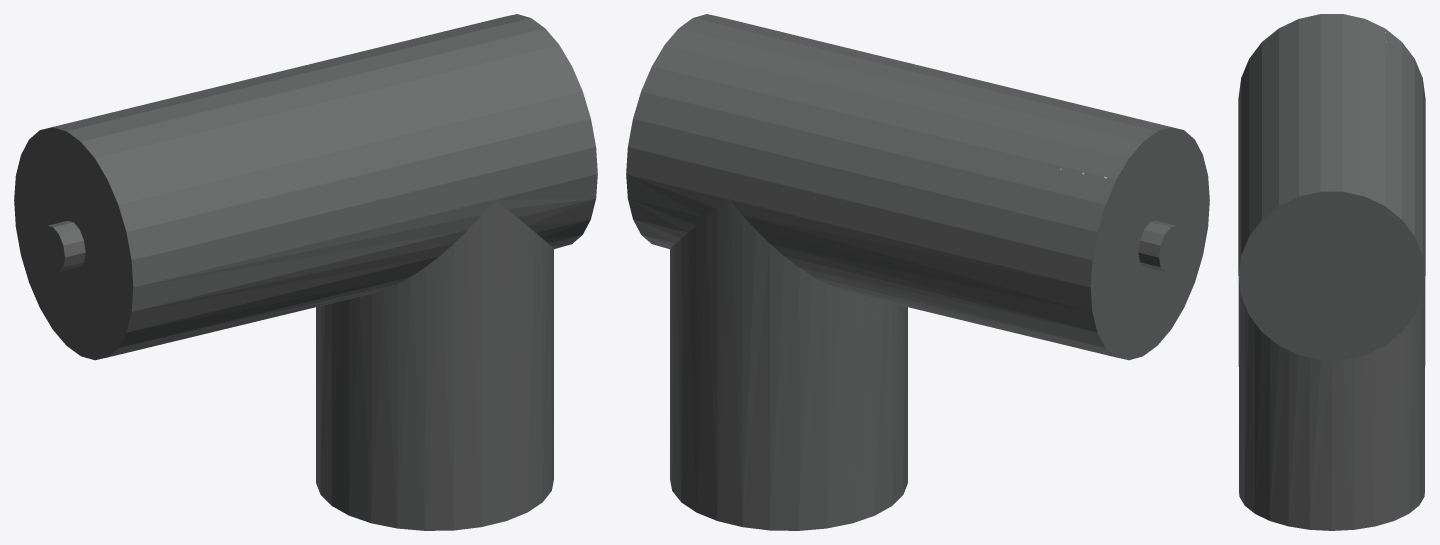
The model's file is left_axel.dae.
The picture shows the model from 3 angles, left to right: view 1: azimuth 30°, elevation 25°; view 2: azimuth 150°, elevation 25°; view 3: azimuth 270°, elevation 25°; orthographic projection. The views are drawn at different scales.
Parts seen in each view (by area): view 1: left_axel; view 2: left_axel; view 3: left_axel.
Part boxes in pixels (left/top/right/bottom): left_axel: left=14, top=14, right=597, bottom=530; left_axel: left=626, top=14, right=1209, bottom=530; left_axel: left=1238, top=14, right=1425, bottom=530.
Size of the model in its own units: 0.1194 by 0.0508 by 0.1017.
1 material, 1 textured.
